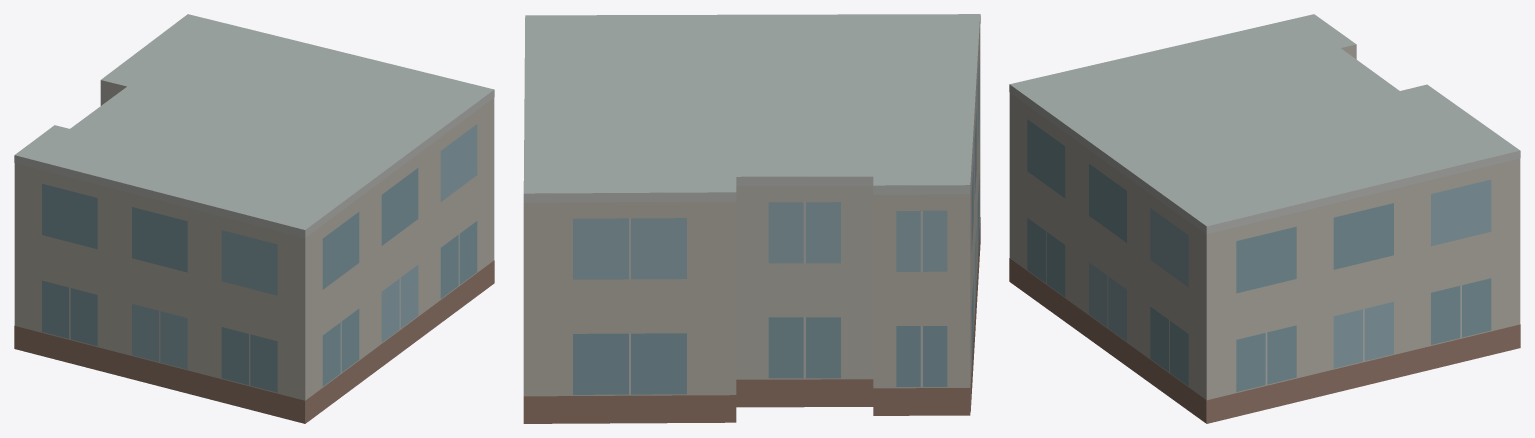
The model's file is survey-upis-32820626.glb.
The picture shows the model from 3 angles, left to right: view 1: azimuth 30°, elevation 25°; view 2: azimuth 150°, elevation 25°; view 3: azimuth 270°, elevation 25°; orthographic projection. The views are drawn at different scales.
Visible parts, largest first — view 1: survey-upis-32820626.tmp; view 2: survey-upis-32820626.tmp; view 3: survey-upis-32820626.tmp.
Part boxes in pixels (bbox=[...]): survey-upis-32820626.tmp: bbox=[14, 14, 494, 423]; survey-upis-32820626.tmp: bbox=[523, 14, 980, 423]; survey-upis-32820626.tmp: bbox=[1009, 14, 1520, 423].
Bounding box in the file's own units: 14.09 × 6.1 × 14.32.
